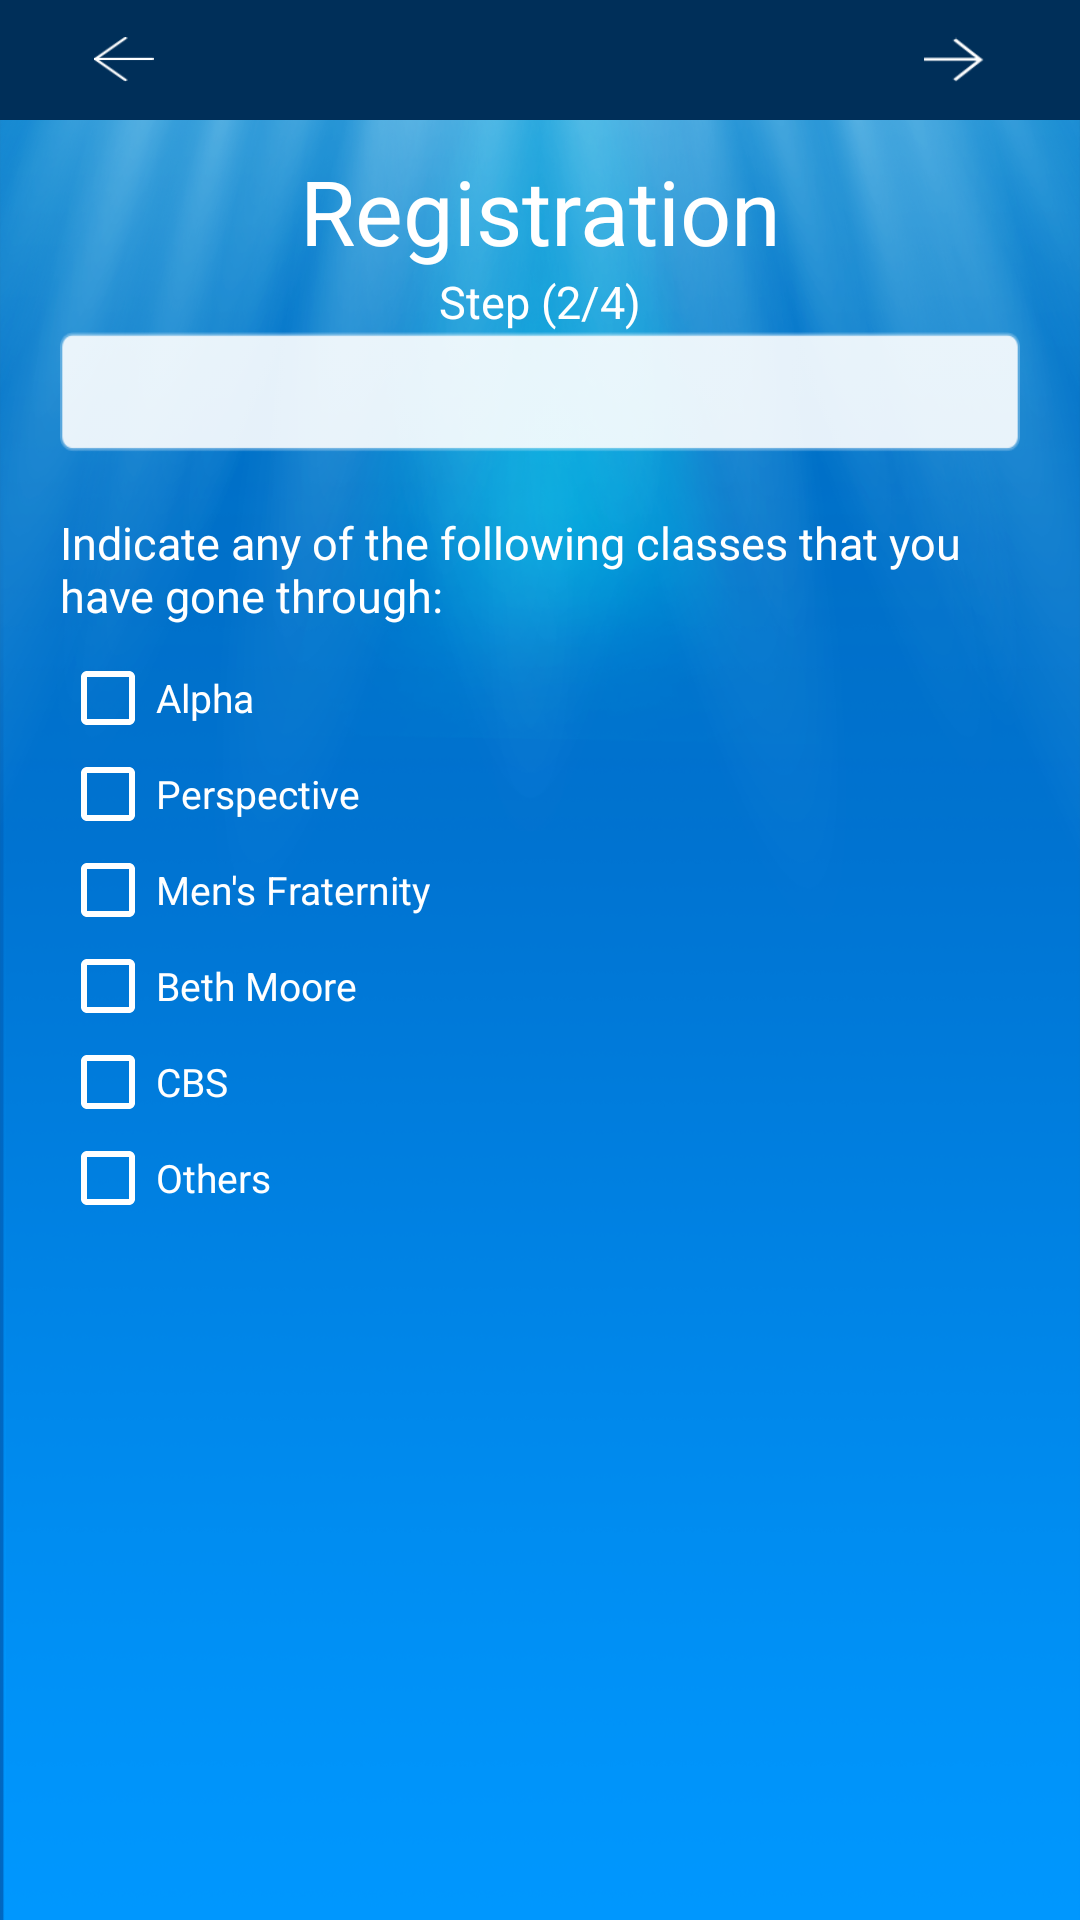

Where to tap for icons on this 1080x1920 app screen, as point (x, y):
left arrow: point (124, 59)
right arrow: point (953, 59)
